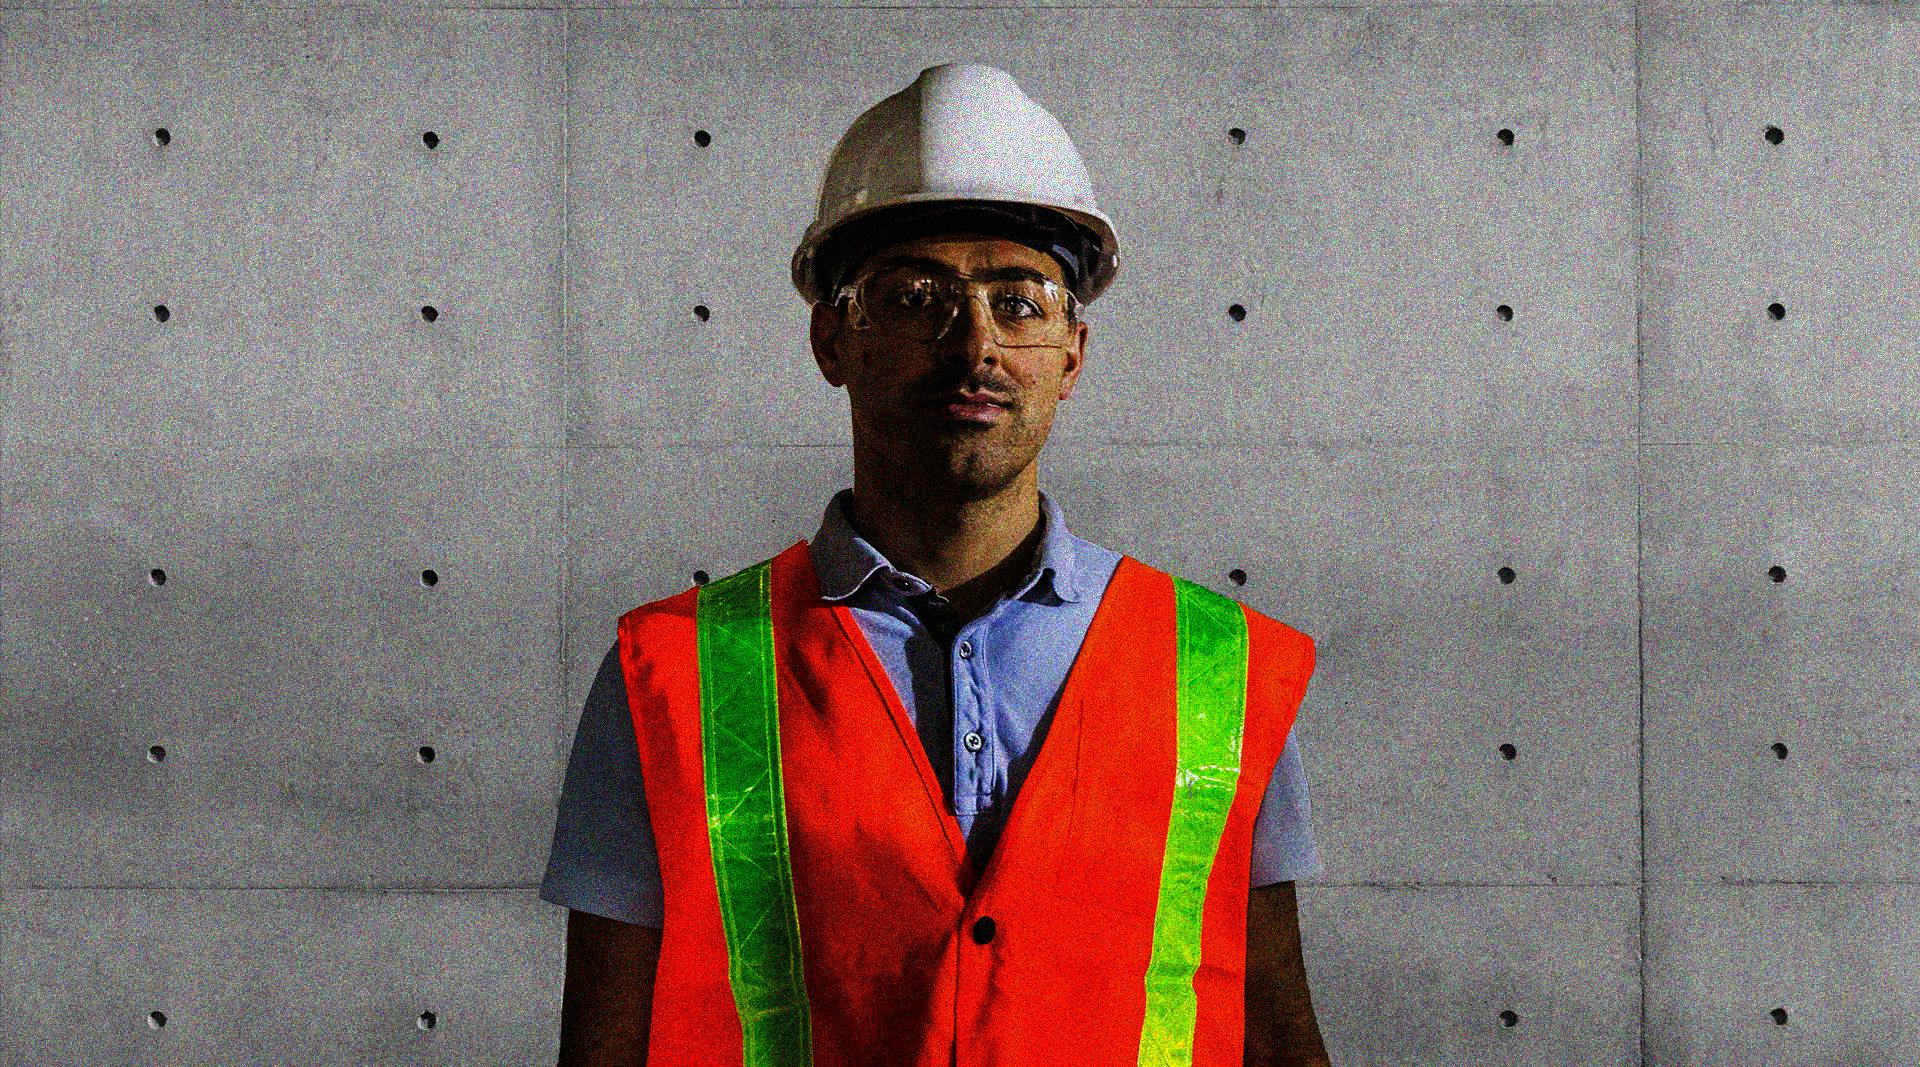helmet: (780, 57, 1127, 501)
